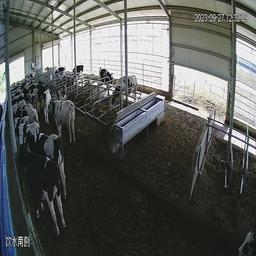cow: (15, 144, 66, 238), (27, 129, 67, 200), (45, 99, 77, 145), (107, 73, 139, 113), (100, 66, 117, 92), (51, 82, 68, 106), (41, 85, 50, 125), (53, 64, 67, 83), (74, 62, 85, 80)
